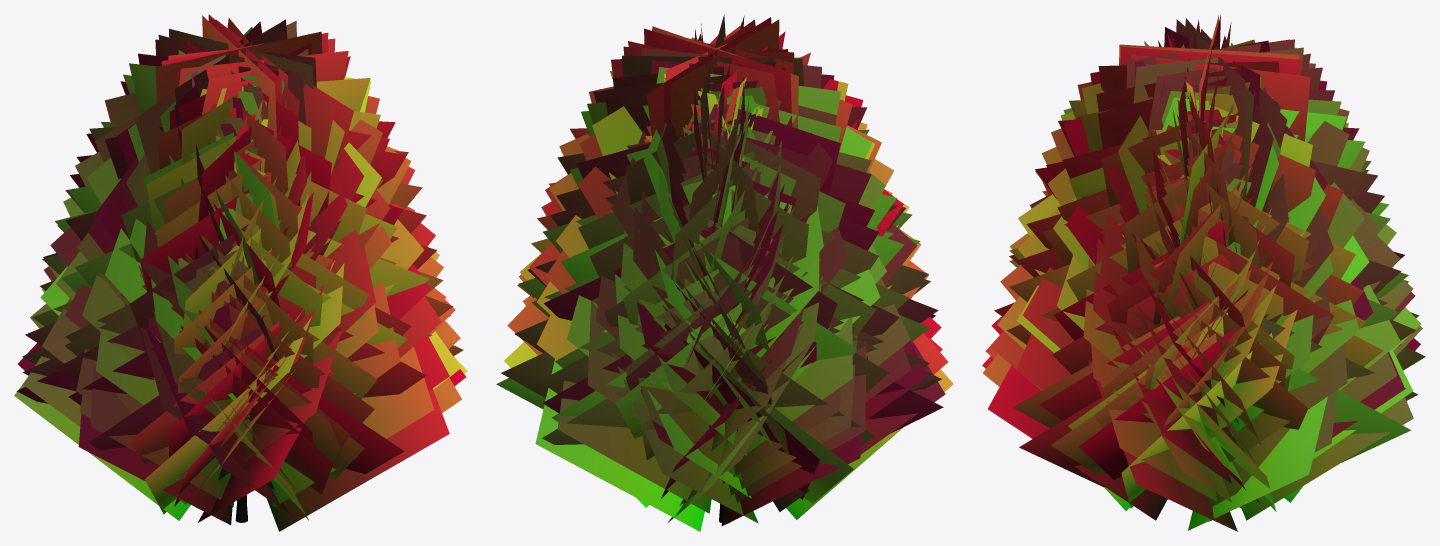
The model's file is URP_P4_Tree_1_LOD_2.fbx.
3 views of the same model, side by side, from view 1: azimuth 30°, elevation 25°; view 2: azimuth 150°, elevation 25°; view 3: azimuth 270°, elevation 25° (orthographic).
Visible parts, largest first — view 1: Tree_1_LOD_2; view 2: Tree_1_LOD_2; view 3: Tree_1_LOD_2.
Boxes of the visible parts, x1=… form: Tree_1_LOD_2: x1=14, y1=14, x2=467, y2=531; Tree_1_LOD_2: x1=496, y1=14, x2=953, y2=531; Tree_1_LOD_2: x1=982, y1=15, x2=1425, y2=531.
Bounding box in the file's own units: 209 × 245 × 209.
